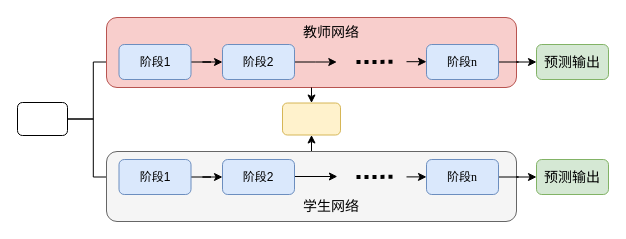
Some shapes in this 626 by 239 pixel diagram are drawn without their labels. The box of each missing label's shape, as (x1, y1, x2, y2) in pixels:
数据: (16, 102, 68, 136)
蒸馏损失: (282, 102, 340, 135)
